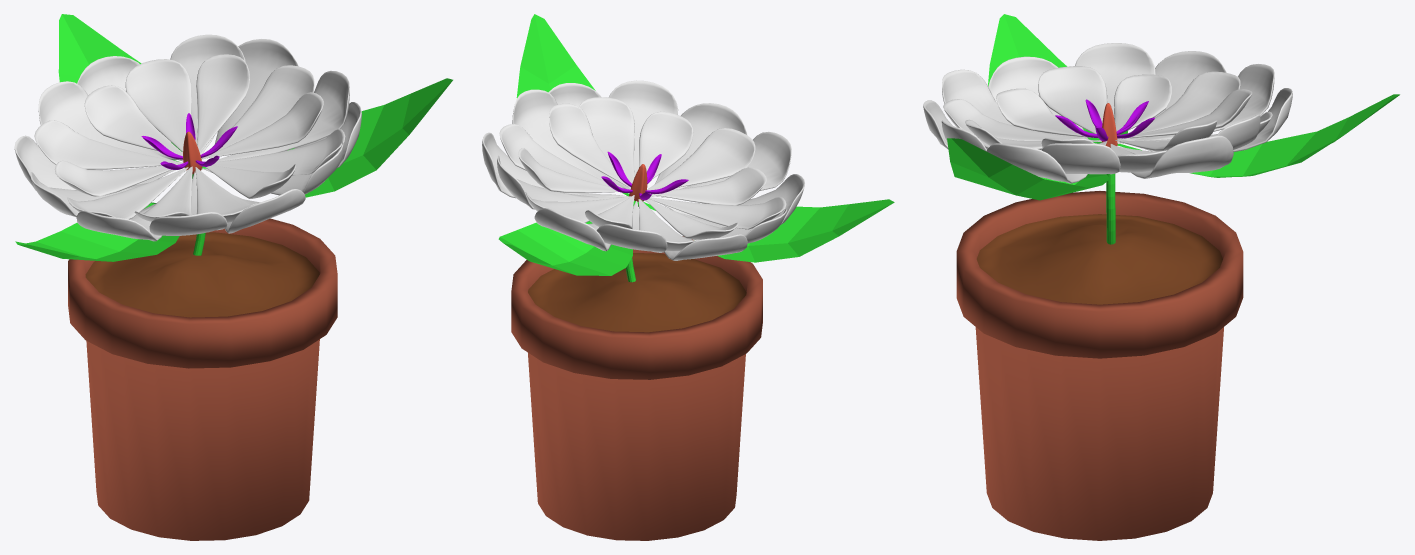
File: flower9.fbx
3 views of the same model, side by side, from view 1: azimuth 30°, elevation 25°; view 2: azimuth 150°, elevation 25°; view 3: azimuth 270°, elevation 25° (orthographic). The views are drawn at different scales.
Parts seen in each view (by area): view 1: Circle, Cube.006, Cube.004, Cube.005, Cube.001, Plane.001, Plane.003, Plane.002, Cube.002, Cube.003; view 2: Circle, Cube.006, Cube.004, Cube.005, Cube.001, Plane.003, Plane.002, Plane.001, Cube.002; view 3: Circle, Cube.001, Cube.005, Cube.006, Cube.004, Plane.001, Plane.002, Plane.003, Cube.002, Vert.002.
Part boxes in pixels (x1,y1,x2,y2): Circle: (68, 218, 337, 540); Cube.006: (34, 59, 345, 222); Cube.004: (54, 54, 323, 221); Cube.005: (30, 34, 349, 235); Cube.001: (14, 39, 361, 241); Plane.001: (202, 78, 452, 197); Plane.003: (15, 202, 179, 261); Plane.002: (58, 14, 185, 167); Cube.002: (141, 113, 237, 169); Cube.003: (183, 131, 202, 174); Circle: (511, 236, 762, 540); Cube.006: (499, 97, 786, 251); Cube.004: (518, 103, 766, 239); Cube.005: (497, 80, 791, 252); Cube.001: (482, 83, 804, 260); Plane.003: (643, 199, 894, 262); Plane.002: (498, 200, 642, 275); Plane.001: (516, 14, 629, 196); Cube.002: (601, 151, 688, 200); Circle: (956, 191, 1243, 540); Cube.001: (923, 51, 1292, 183); Cube.005: (941, 43, 1274, 174); Cube.006: (943, 66, 1272, 172); Cube.004: (965, 74, 1252, 151); Plane.001: (947, 138, 1108, 200); Plane.002: (1117, 94, 1399, 177); Plane.003: (988, 14, 1127, 143); Cube.002: (1055, 99, 1154, 141); Vert.002: (1106, 174, 1115, 244).
Size of the model in its own units: 443 by 437 by 422.
